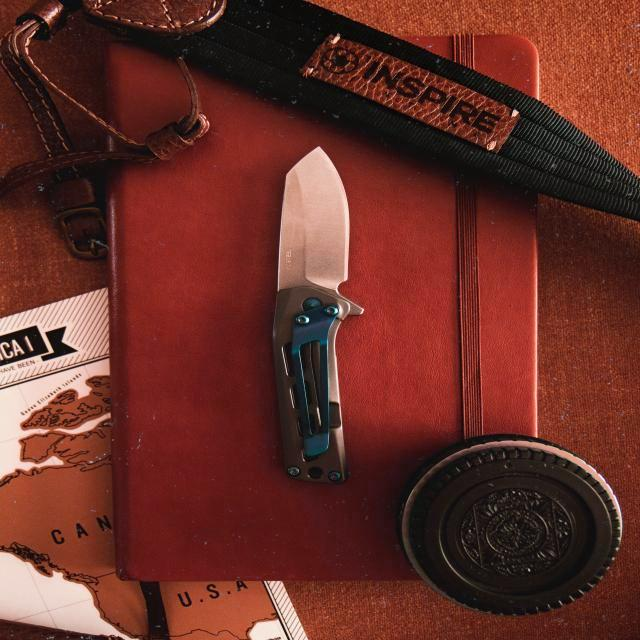Knife: (273, 147, 360, 484)
